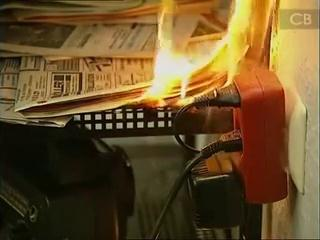Fire: (142, 0, 280, 108)
